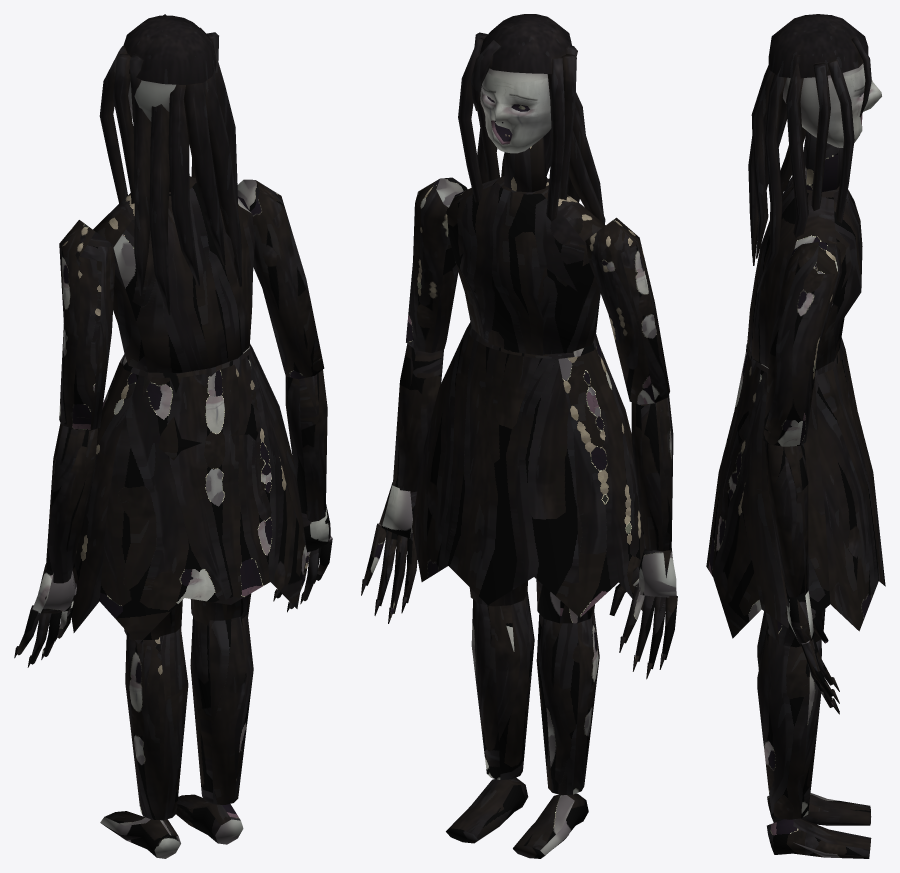
The model's file is LaLamentadora_Estatico.fbx.
3 renders of one model, left to right at view 1: azimuth 30°, elevation 25°; view 2: azimuth 150°, elevation 25°; view 3: azimuth 270°, elevation 25°, orthographic.
Visible parts, largest first — view 1: LowerTorso, Head, UpperTorso, LeftUpperArm, RightLowerLeg, LeftLowerLeg, RightUpperArm, LeftLowerArm, RightLowerArm, LeftHand, LeftFoot, RightFoot (+3 smaller); view 2: LowerTorso, UpperTorso, Head, RightLowerLeg, LeftLowerLeg, LeftUpperArm, RightUpperArm, LeftLowerArm, RightLowerArm, LeftHand, RightHand, RightFoot (+2 smaller); view 3: LowerTorso, Head, UpperTorso, RightUpperArm, RightLowerLeg, RightLowerArm, RightFoot, RightHand, LeftFoot, RightUpperLeg.
Part boxes in pixels (x1,y1,x2,y2): LowerTorso: (71, 344, 306, 643); Head: (99, 14, 241, 315); UpperTorso: (93, 176, 254, 373); LeftUpperArm: (59, 220, 115, 430); RightLowerLeg: (190, 615, 253, 804); LeftLowerLeg: (125, 627, 188, 820); RightUpperArm: (237, 179, 324, 379); LeftLowerArm: (46, 417, 97, 583); RightLowerArm: (285, 357, 327, 521); LeftHand: (14, 564, 76, 667); LeftFoot: (100, 811, 180, 858); RightFoot: (176, 794, 243, 844); LowerTorso: (412, 322, 644, 617); UpperTorso: (447, 137, 605, 355); Head: (458, 14, 605, 224); RightLowerLeg: (471, 592, 534, 779); LeftLowerLeg: (536, 611, 599, 795); LeftUpperArm: (585, 217, 669, 404); RightUpperArm: (406, 177, 467, 352); LeftLowerArm: (631, 395, 673, 551); RightLowerArm: (393, 344, 443, 492); LeftHand: (609, 548, 677, 679); RightHand: (361, 482, 417, 623); RightFoot: (446, 777, 528, 843); LowerTorso: (706, 337, 885, 638); Head: (748, 14, 881, 292); UpperTorso: (747, 130, 862, 370); RightUpperArm: (763, 242, 841, 446); RightLowerLeg: (757, 627, 821, 819); RightLowerArm: (764, 428, 808, 607); RightFoot: (767, 818, 871, 858); RightHand: (786, 591, 839, 714); LeftFoot: (767, 793, 871, 825); RightUpperLeg: (766, 609, 825, 647).
Bounding box in the file's own units: 3.99 × 10.2 × 2.03.
4 materials, 4 textured.
